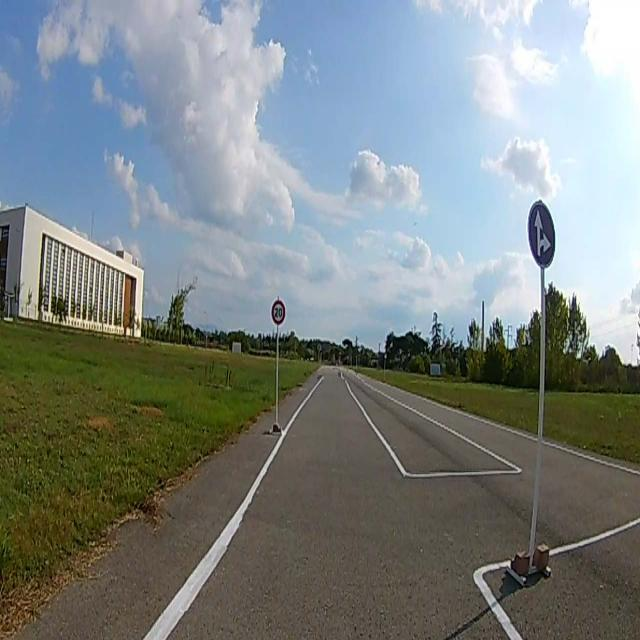20: (272, 300, 285, 326)
ilerisag: (528, 200, 556, 266)
